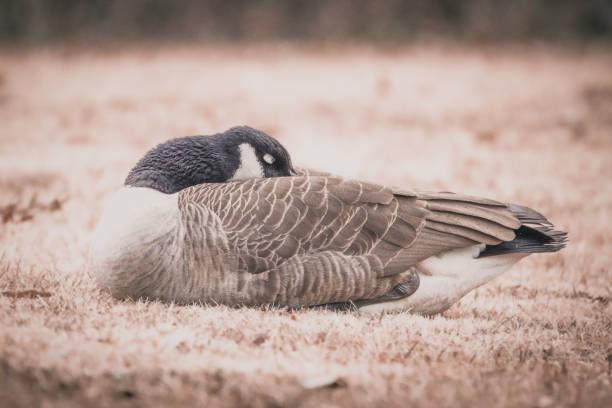Canadian-Goose: (92, 123, 557, 321)
